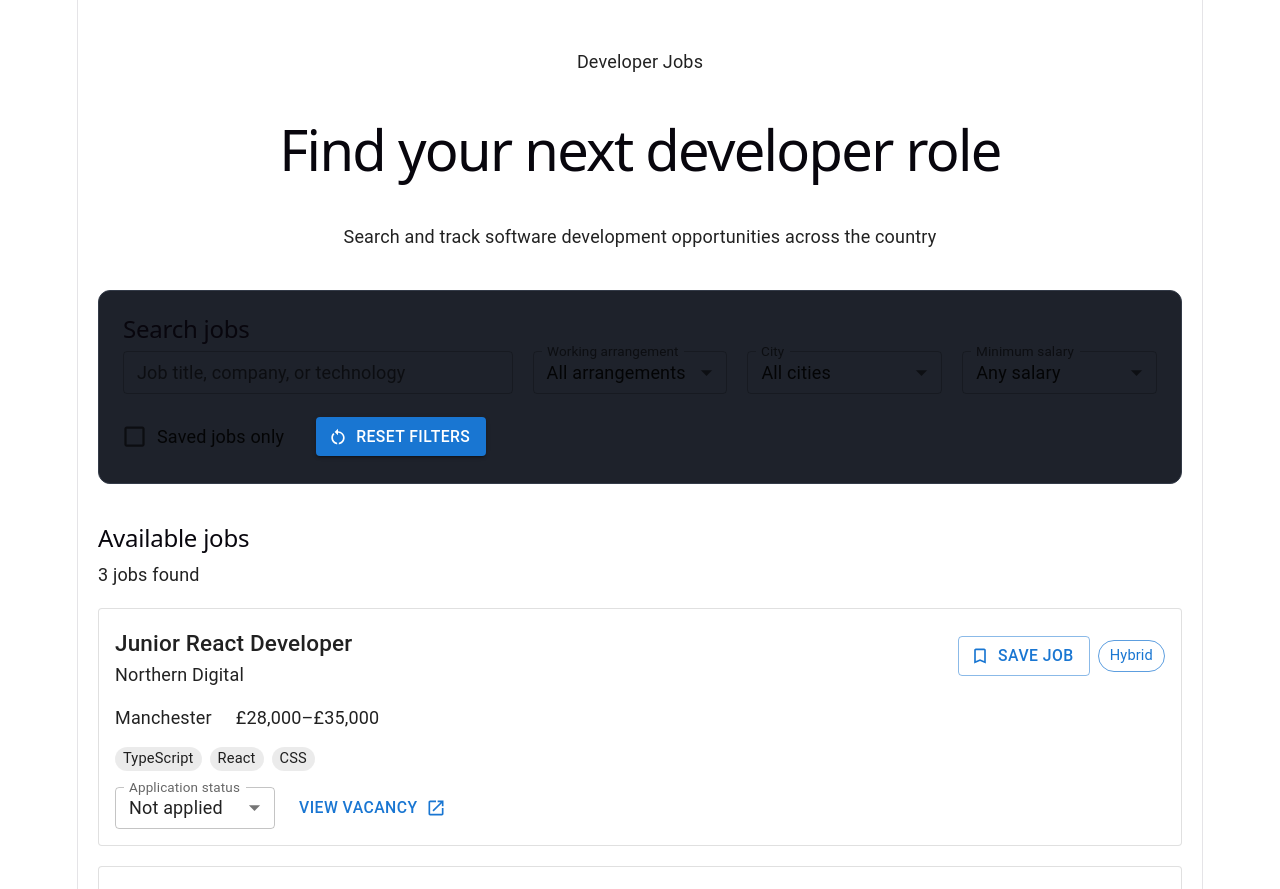
Test: App › allows a job to be saved
Expected: the text "3 jobs found" is shown, [98, 564, 200, 584]
Step 1. Click the button "Save job" next to "hybrid" → (1024, 656), box [958, 636, 1090, 676]
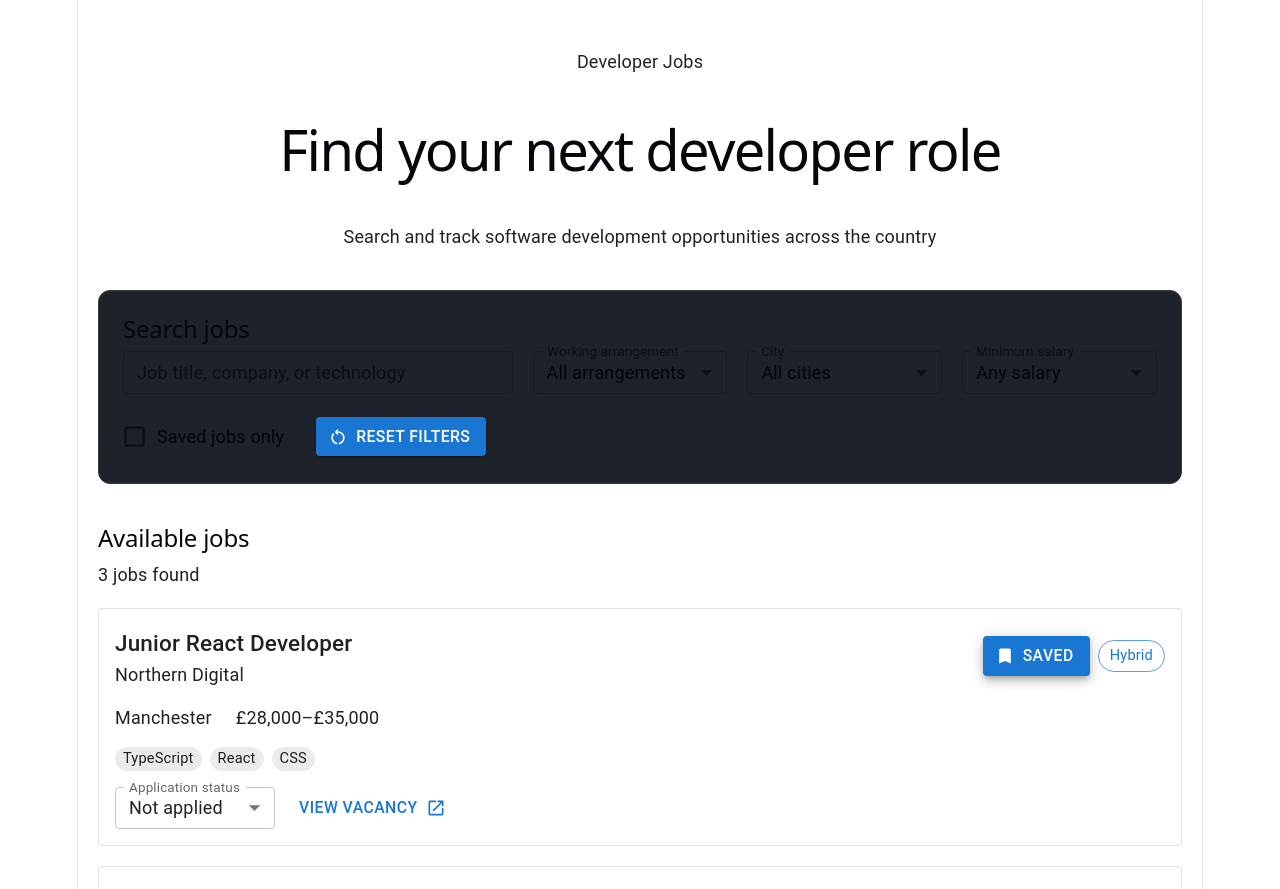
Expected: the button "Saved" is shown, [983, 636, 1090, 676]
